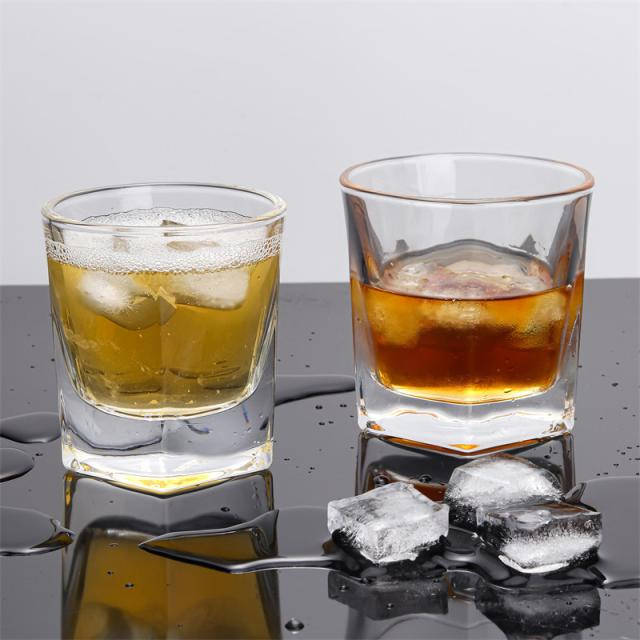Cup: (336, 150, 597, 452), (43, 178, 284, 500)
